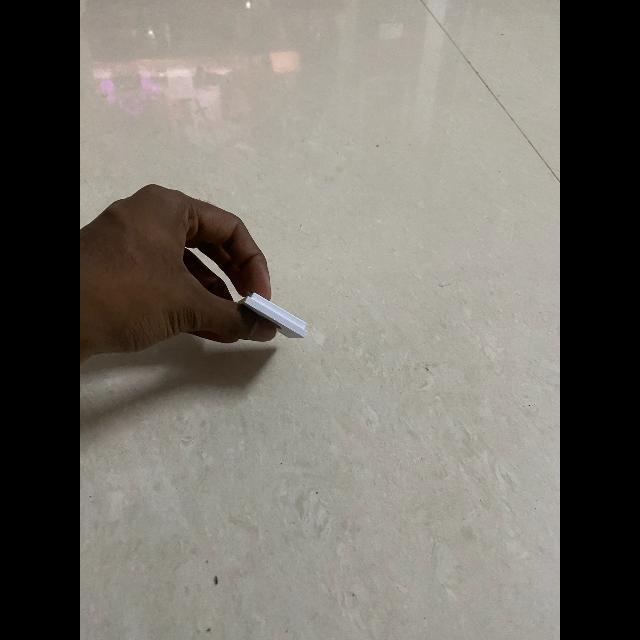RASPBERY PI CAM ENCLOSURE: (238, 292, 308, 338)
